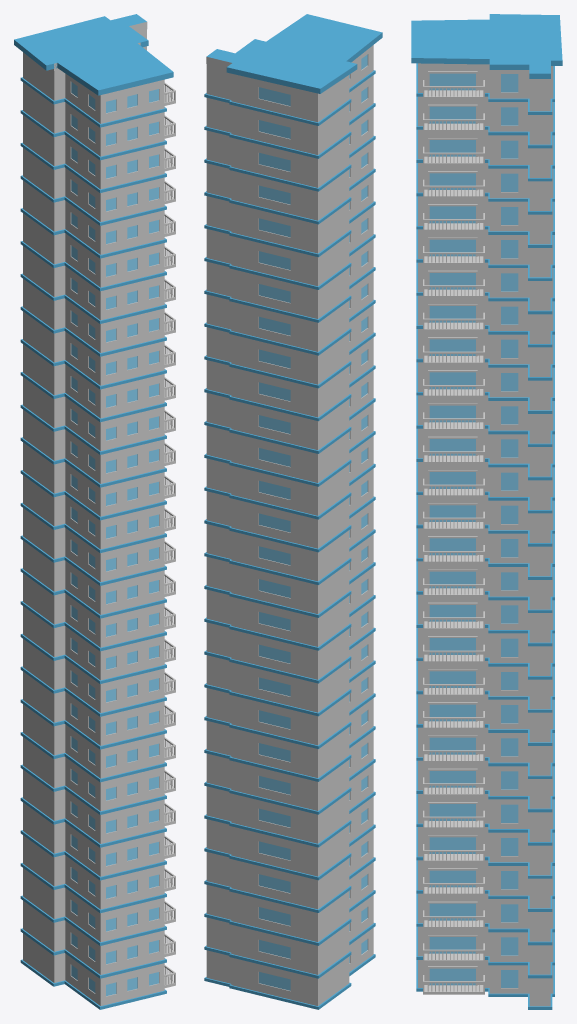
Rendered from building2.fbx.
The picture shows the model from 3 angles, left to right: view 1: azimuth 30°, elevation 25°; view 2: azimuth 150°, elevation 25°; view 3: azimuth 270°, elevation 25°; orthographic projection.
Visible parts, largest first — view 1: building_003; view 2: building_003; view 3: building_003.
Boxes of the visible parts, <box> form: building_003: <box>14,14,175,1009</box>; building_003: <box>204,14,382,1009</box>; building_003: <box>411,14,562,1009</box>.
Bounding box in the file's own units: 899 × 6509 × 953.
